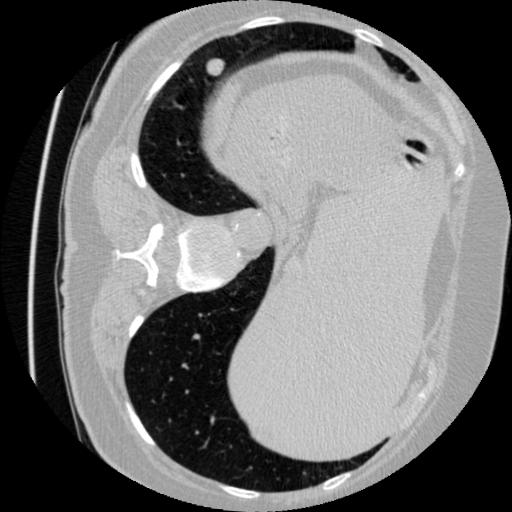nodule: (205, 57, 228, 80)
